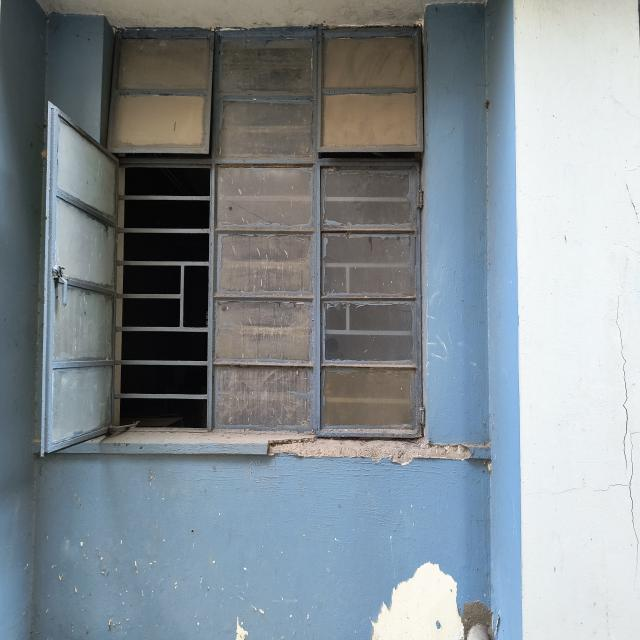crack: (628, 427, 640, 586), (533, 482, 628, 496), (620, 349, 630, 476), (614, 277, 624, 351)
peeling: (42, 463, 433, 640), (372, 562, 464, 640), (268, 438, 471, 465), (491, 611, 500, 640)
